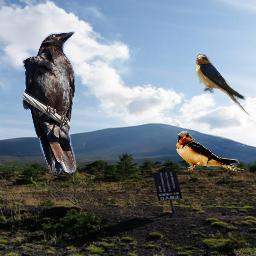Crow: (22, 30, 77, 174)
Swallow: (195, 54, 252, 118), (175, 131, 246, 175)
